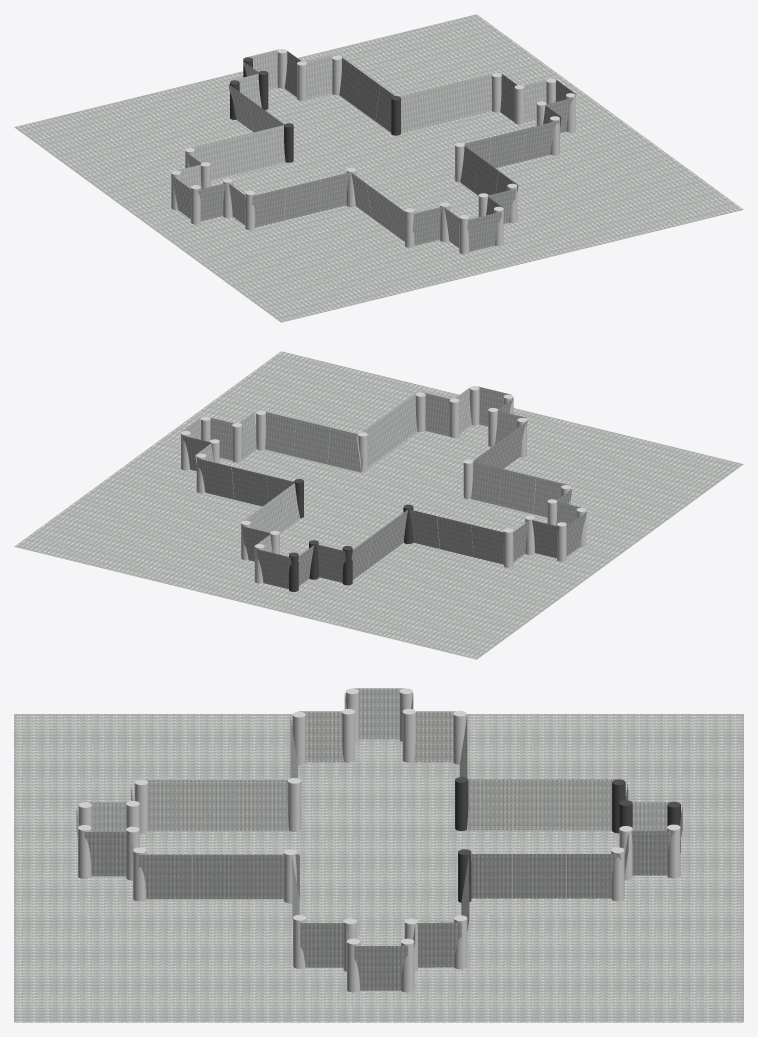
The model's file is map1.glb.
3 views of the same model, one above another, from view 1: azimuth 30°, elevation 25°; view 2: azimuth 150°, elevation 25°; view 3: azimuth 270°, elevation 25° (orthographic). The views are drawn at different scales.
Visible parts, largest first — view 1: Plane-col, Plane.019-col, Plane.069-col, Plane.071-col, Plane.018-col, Plane.068-col, Plane.016-col, Plane.021-col, Plane.070-col, Plane.058-col, Plane.030-col, Plane.067-col (+17 smaller); view 2: Plane-col, Plane.068-col, Plane.018-col, Plane.066-col, Plane.019-col, Plane.069-col, Plane.067-col, Plane.017-col, Plane.020-col, Plane.071-col, Plane.047-col, Plane.028-col (+18 smaller); view 3: Plane-col, Plane.062-col, Plane.024-col, Plane.025-col, Plane.063-col, Plane.060-col, Plane.061-col, Plane.027-col, Plane.023-col, Plane.022-col, Plane.003-col, Plane.074-col (+28 smaller).
Boxes of the visible parts, <box> form: Plane-col: <box>14,14,743,322</box>; Plane.019-col: <box>222,132,258,176</box>; Plane.069-col: <box>426,81,462,126</box>; Plane.071-col: <box>460,73,493,118</box>; Plane.018-col: <box>284,179,320,220</box>; Plane.068-col: <box>489,129,525,168</box>; Plane.016-col: <box>252,187,286,227</box>; Plane.021-col: <box>256,125,285,168</box>; Plane.070-col: <box>399,90,428,133</box>; Plane.058-col: <box>306,55,332,99</box>; Plane.030-col: <box>467,211,501,251</box>; Plane.067-col: <box>522,120,559,161</box>; Plane-col: <box>14,351,743,659</box>; Plane.068-col: <box>293,419,329,464</box>; Plane.018-col: <box>499,469,535,513</box>; Plane.066-col: <box>327,427,362,472</box>; Plane.019-col: <box>437,516,473,557</box>; Plane.069-col: <box>231,467,267,506</box>; Plane.067-col: <box>265,412,295,455</box>; Plane.017-col: <box>471,462,501,505</box>; Plane.020-col: <box>471,524,505,564</box>; Plane.071-col: <box>197,458,234,499</box>; Plane.047-col: <box>257,549,291,588</box>; Plane.028-col: <box>423,392,450,436</box>; Plane-col: <box>14,714,743,1022</box>; Plane.062-col: <box>512,779,566,830</box>; Plane.024-col: <box>192,780,245,830</box>; Plane.025-col: <box>192,854,246,899</box>; Plane.063-col: <box>513,854,566,898</box>; Plane.060-col: <box>566,779,616,830</box>; Plane.061-col: <box>466,779,512,830</box>; Plane.027-col: <box>138,854,192,899</box>; Plane.023-col: <box>146,780,192,830</box>; Plane.022-col: <box>246,780,288,830</box>; Plane.003-col: <box>354,688,404,739</box>; Plane.074-col: <box>354,946,407,990</box>.
Bounding box in the file's own units: 310 × 22.87 × 310.
50 materials, 49 textured.
